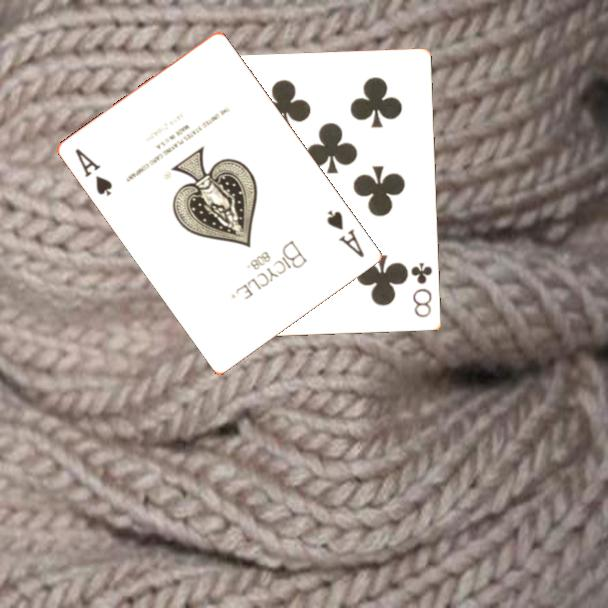c08: (407, 260, 435, 320)
s01: (324, 206, 368, 261), (72, 145, 116, 199)
